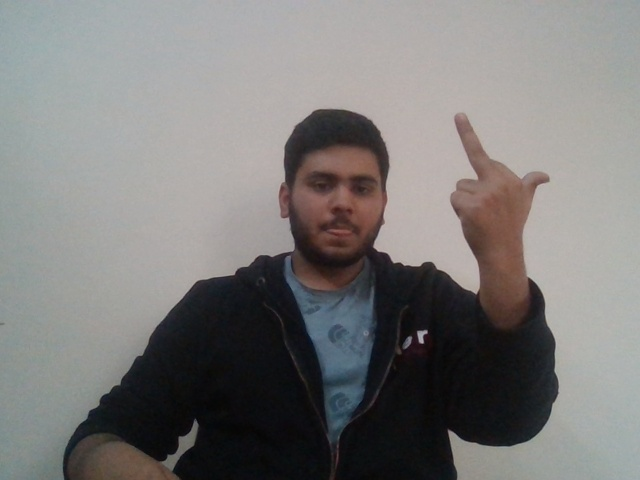Hello: (442, 107, 557, 241)
